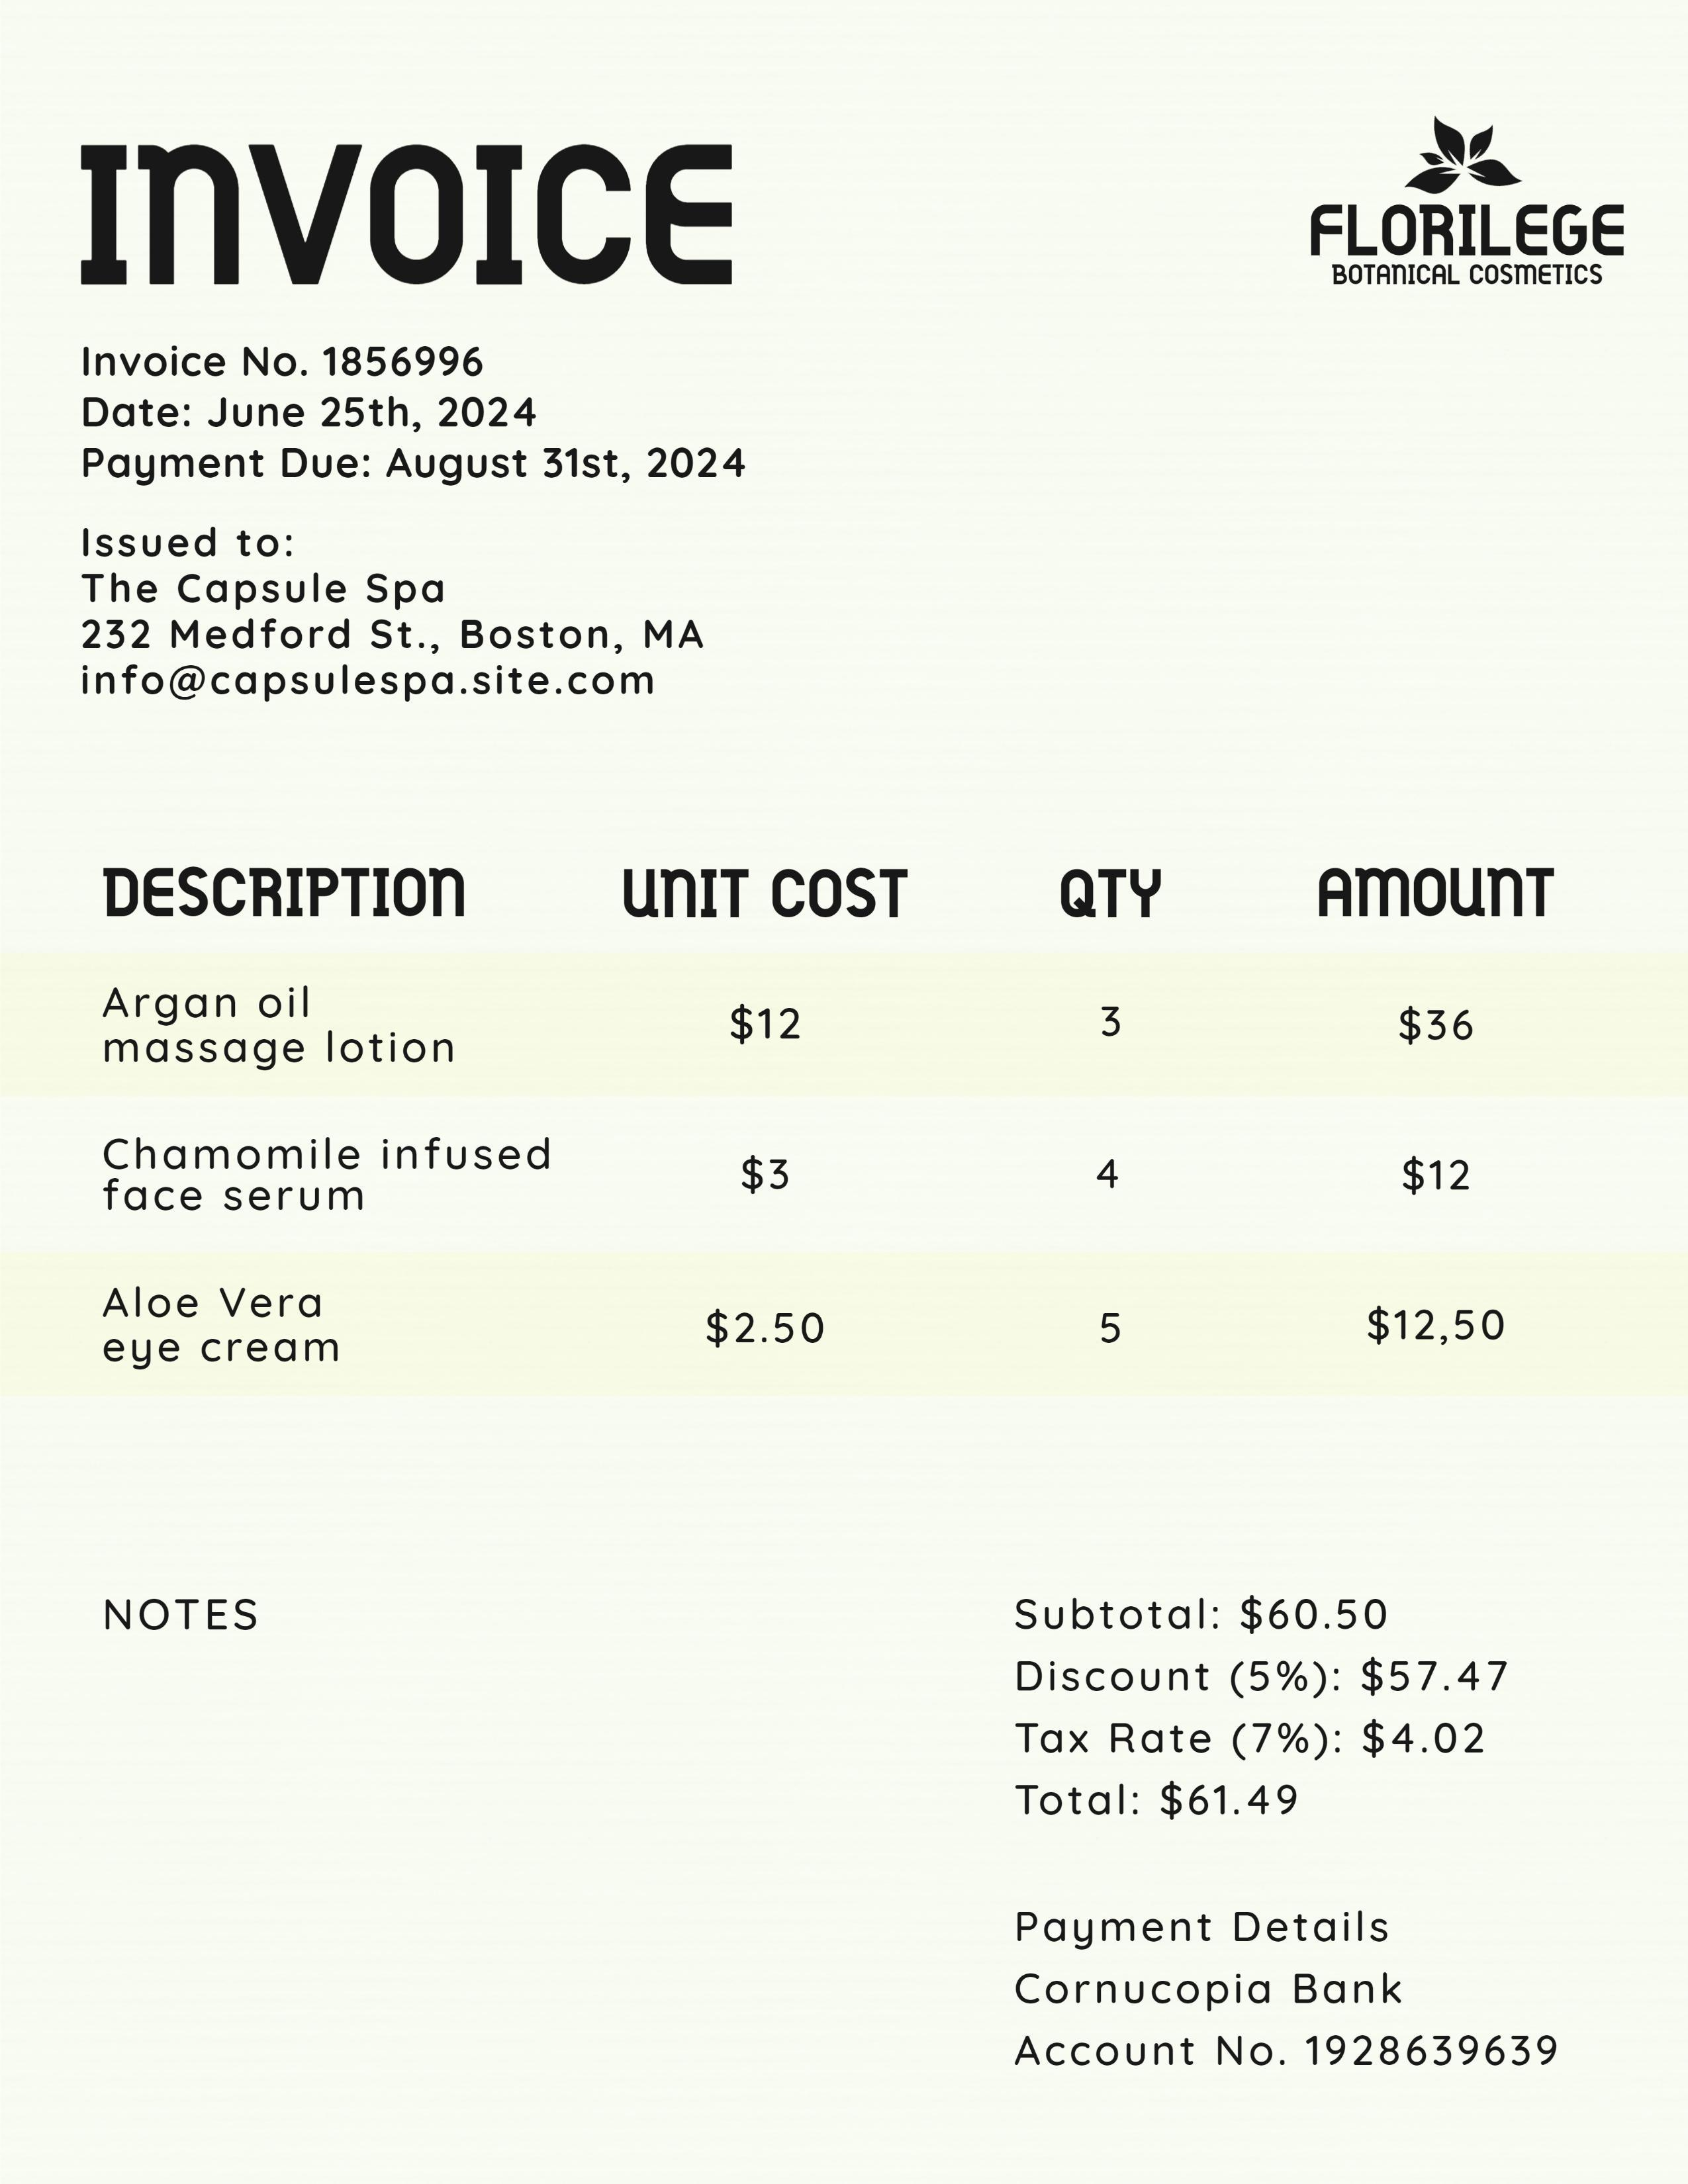ROI: (83, 863, 1601, 1374), (973, 1572, 1509, 1829), (982, 1883, 1573, 2108), (73, 523, 752, 718), (76, 347, 757, 503), (1301, 191, 1651, 305)
